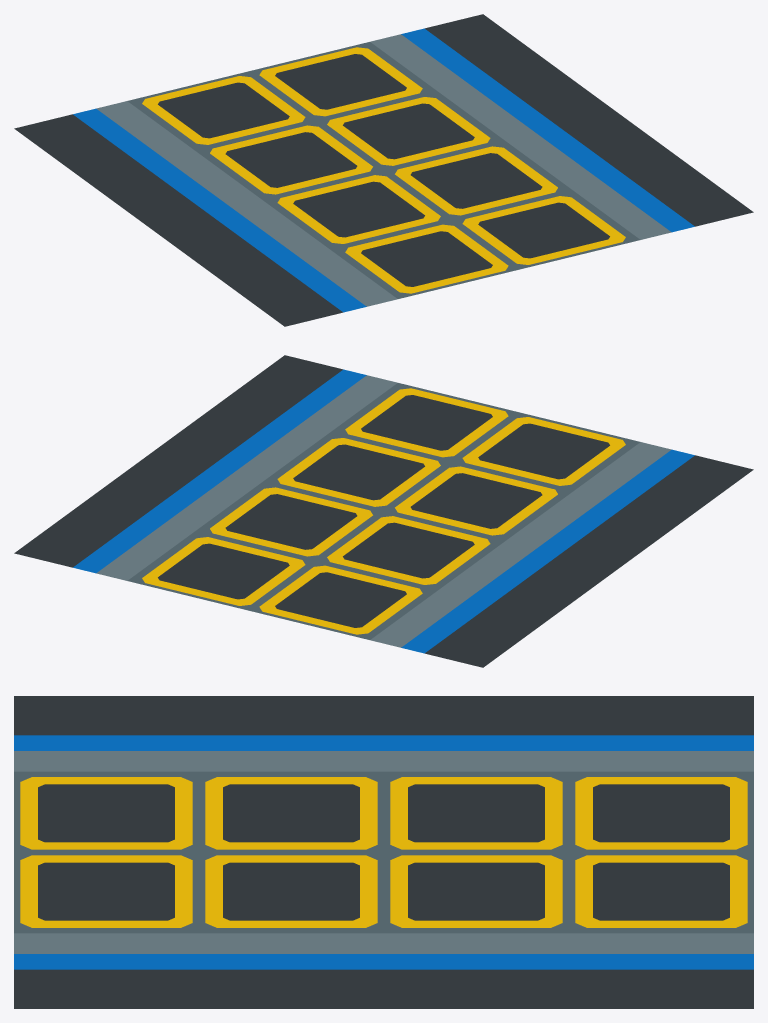
The model's file is Floor_type_C_007_002.glb.
The picture shows the model from 3 angles, top to bottom: view 1: azimuth 30°, elevation 25°; view 2: azimuth 150°, elevation 25°; view 3: azimuth 270°, elevation 25°; orthographic projection. The views are drawn at different scales.
Parts seen in each view (by area): view 1: Floor_type_C_007.002; view 2: Floor_type_C_007.002; view 3: Floor_type_C_007.002.
Boxes of the visible parts, <box> form: Floor_type_C_007.002: <box>14,14,753,326</box>; Floor_type_C_007.002: <box>14,355,753,667</box>; Floor_type_C_007.002: <box>14,696,753,1008</box>.
Size of the model in its own units: 4 by 0 by 4.
Materials: 2 (2 with a texture image).
